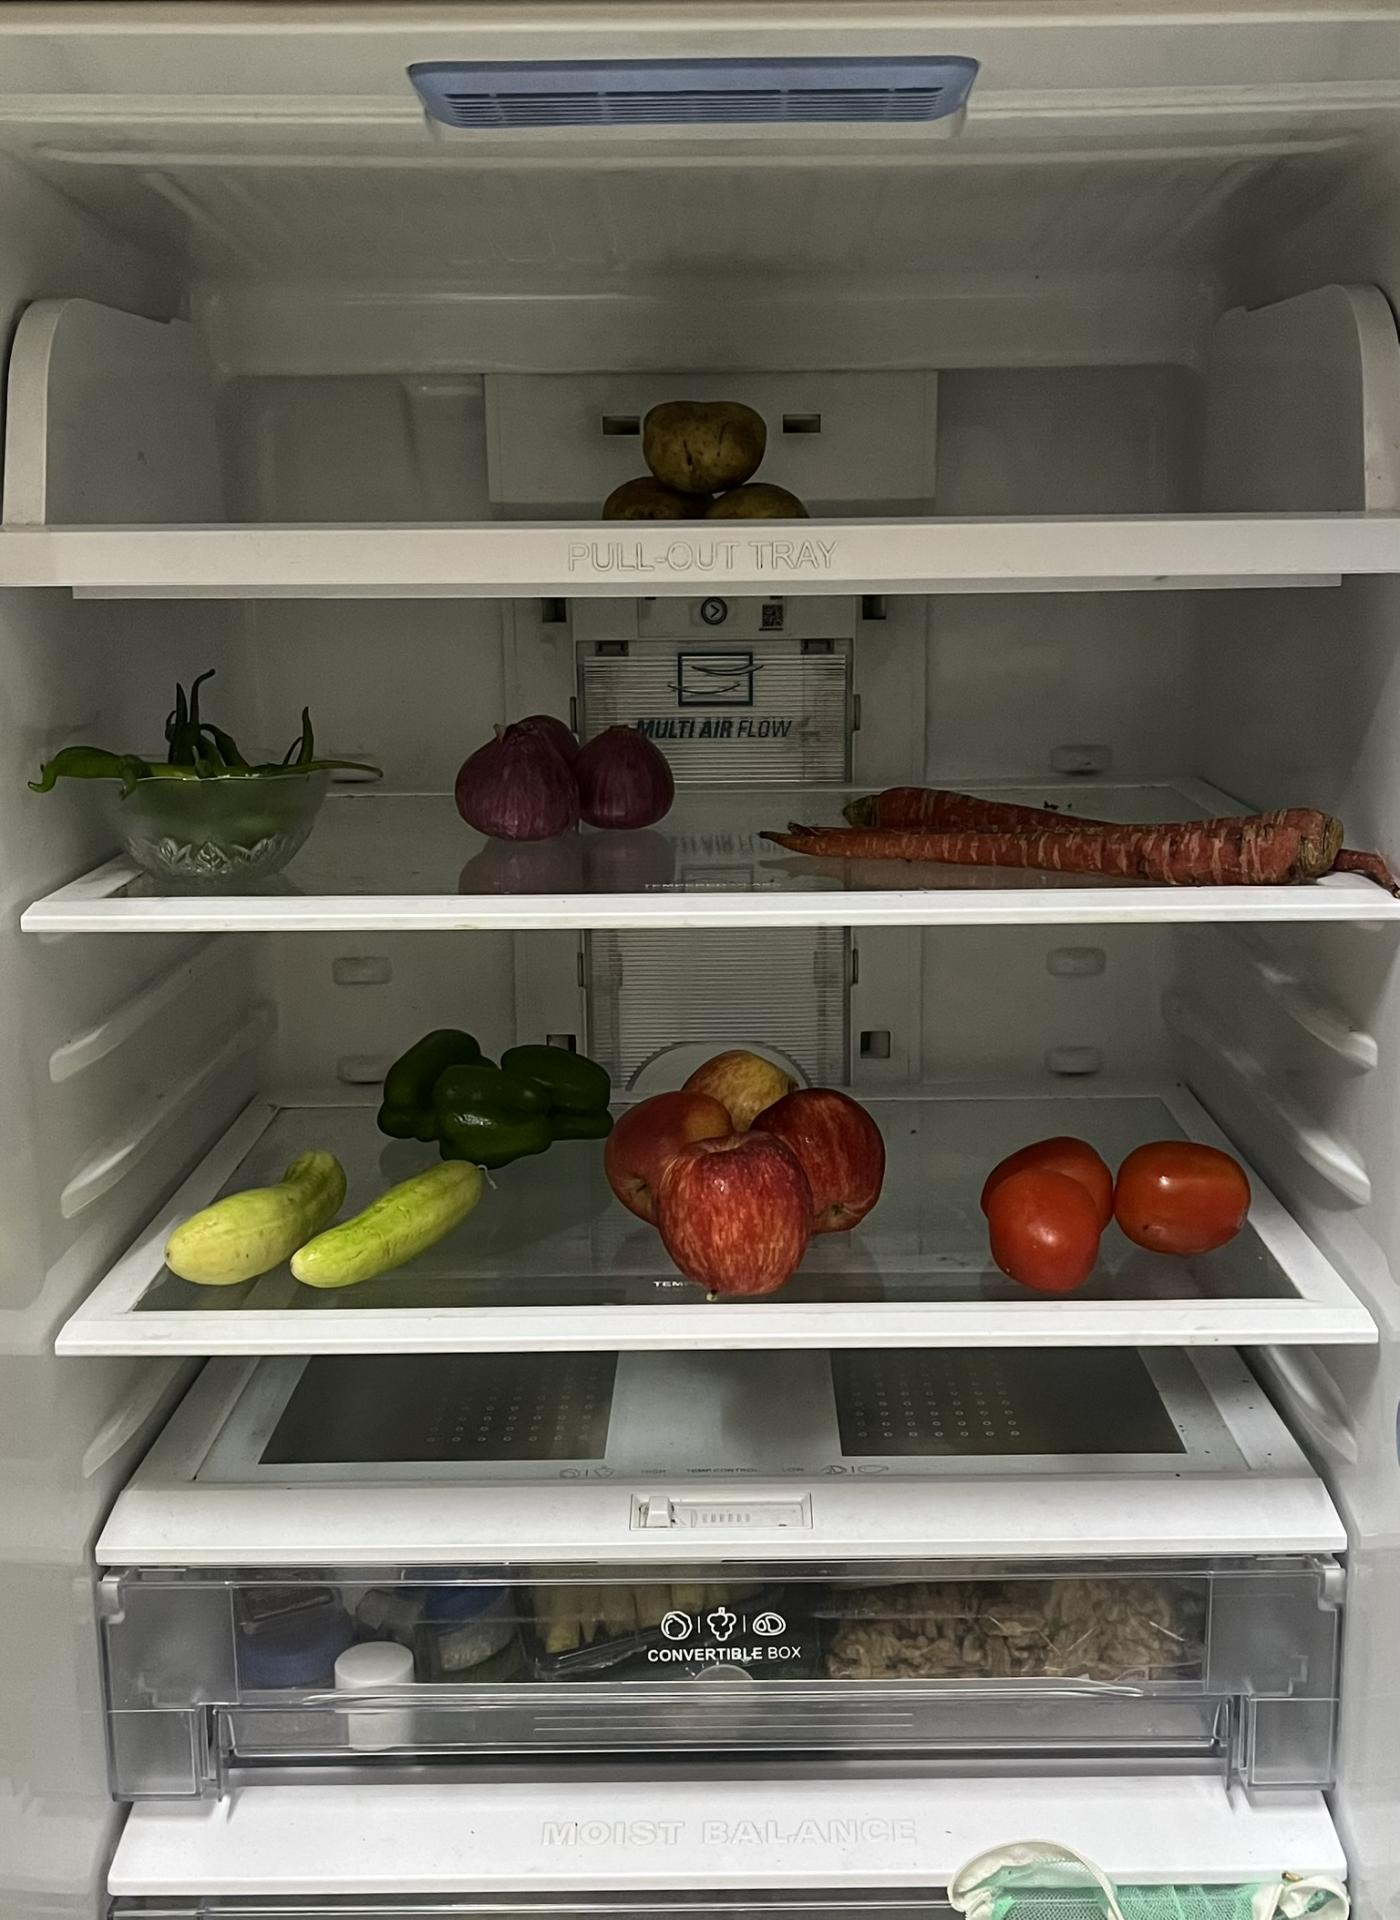apple: (611, 1052, 883, 1301)
capsicum: (380, 1030, 608, 1157)
carrots: (789, 786, 1387, 891)
chillies: (33, 665, 291, 775)
cucumber: (160, 1155, 499, 1283)
onion: (459, 716, 678, 847)
potato: (601, 391, 817, 517)
tomato: (986, 1130, 1249, 1280)
